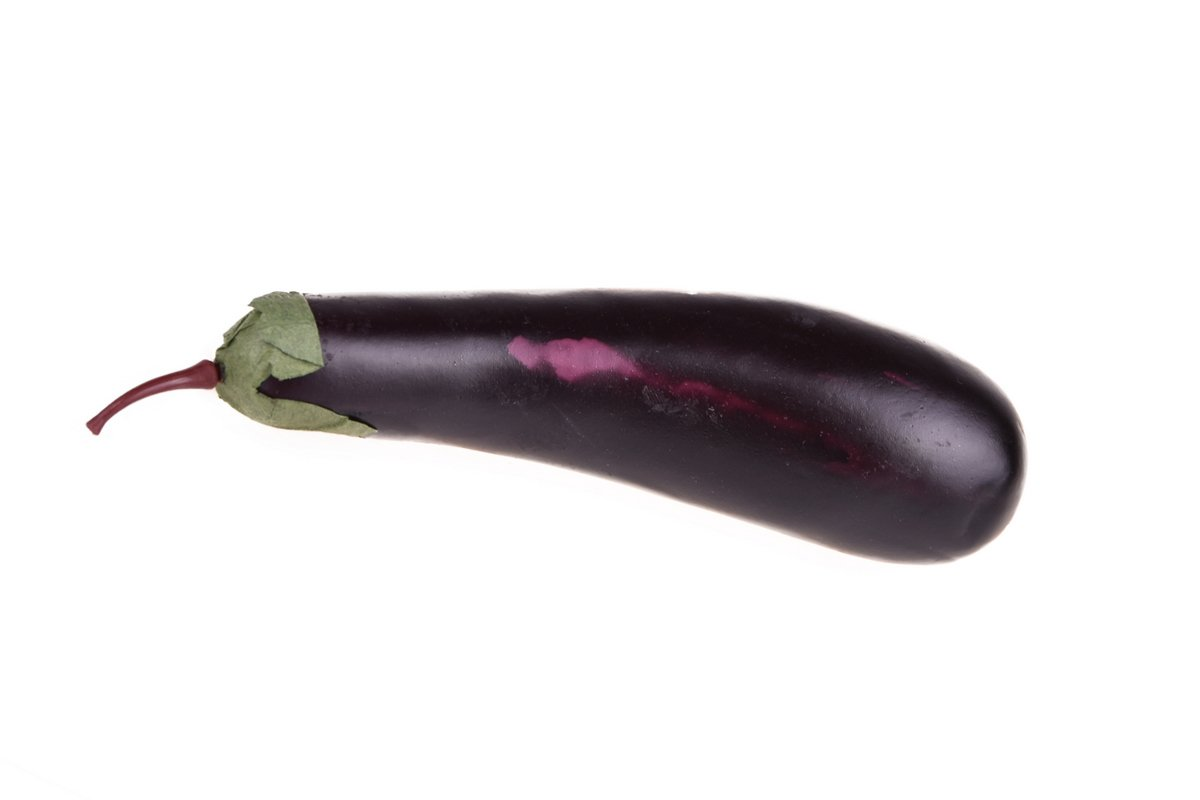Eggplant: (75, 273, 1031, 581)
